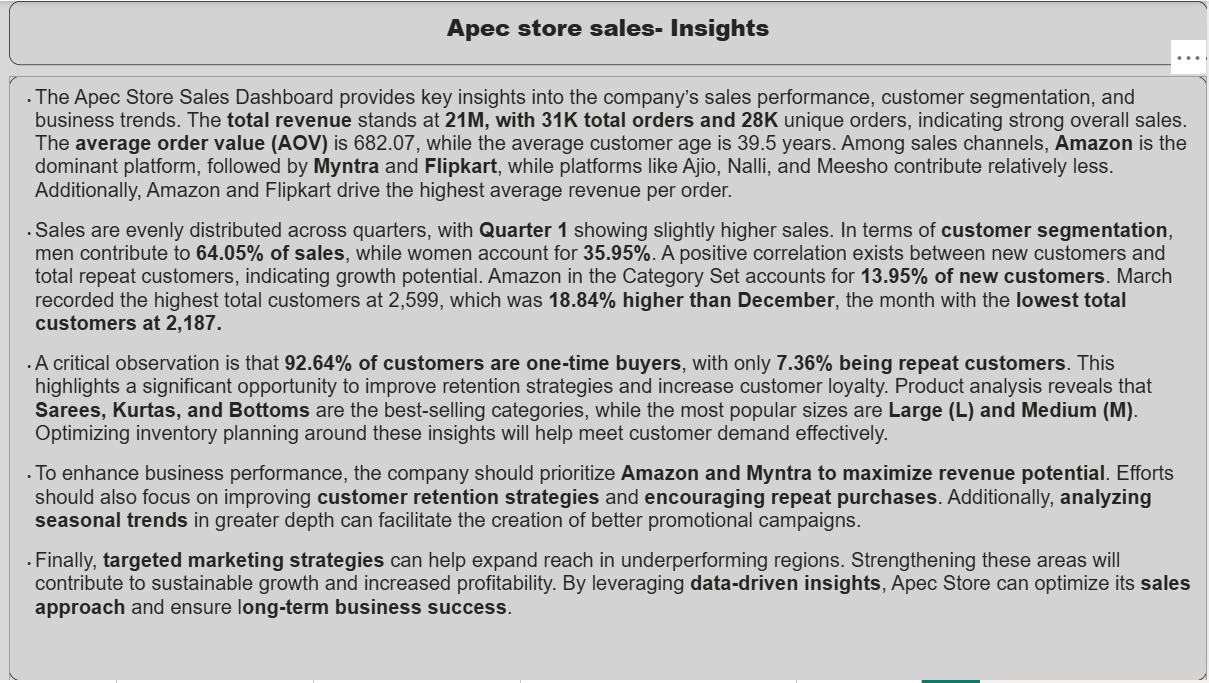

This screenshot's page, from the dashboard's own definition file:
{"tool":"powerbi","page":{"name":"Insights","canvas":[1280,720],"ordinal":3},"visuals":[{"type":"textbox","box":[9.7,0,1271.1,68],"z":0},{"type":"textbox","box":[9.5,79.5,1270.9,641],"z":1000}]}

Visuals, with their boxes in screenshot pixels (x1, y1, x2, y2), scaled from the page's 1280x720 canvas onto the 1209x683 screenshot:
textbox: x1=9, y1=0, x2=1208, y2=65
textbox: x1=9, y1=75, x2=1208, y2=682
